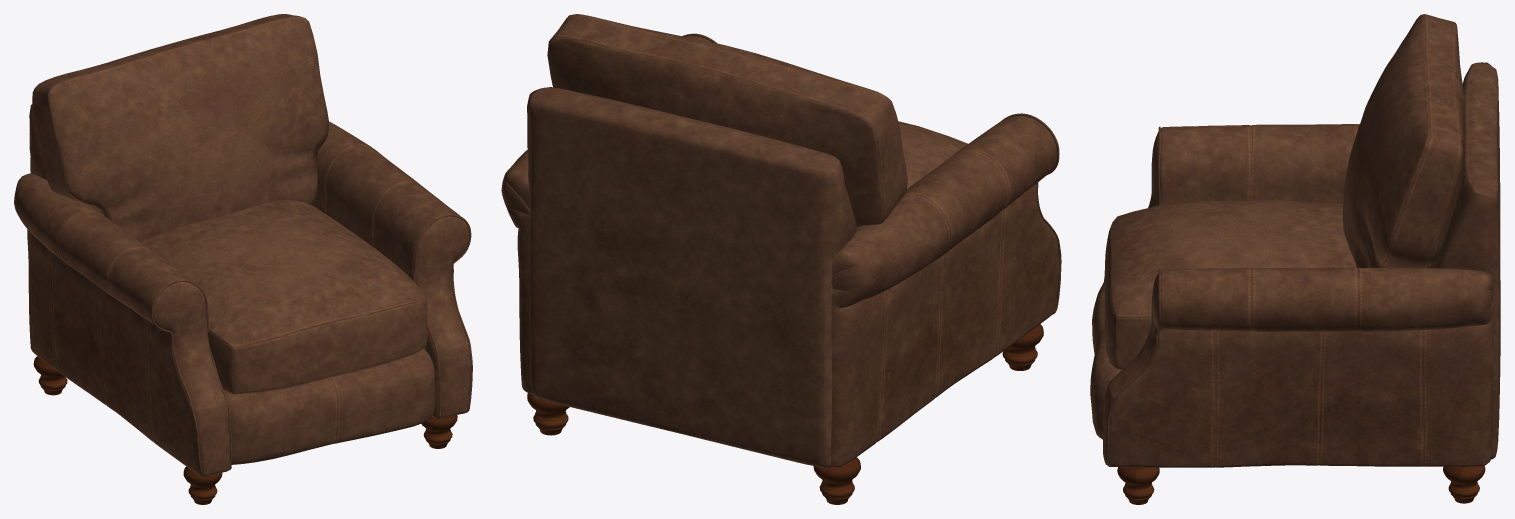
File: CharlesArmchair.glb
The picture shows the model from 3 angles, left to right: view 1: azimuth 30°, elevation 25°; view 2: azimuth 150°, elevation 25°; view 3: azimuth 270°, elevation 25°; orthographic projection. The views are drawn at different scales.
Visible parts, largest first — view 1: RootNode; view 2: RootNode; view 3: RootNode.
Part boxes in pixels (x1=…): RootNode: x1=14, y1=14, x2=472, y2=504; RootNode: x1=501, y1=14, x2=1061, y2=504; RootNode: x1=1090, y1=14, x2=1500, y2=504.
Bounding box in the file's own units: 0.9961 × 0.9761 × 1.
1 material, 1 textured.
